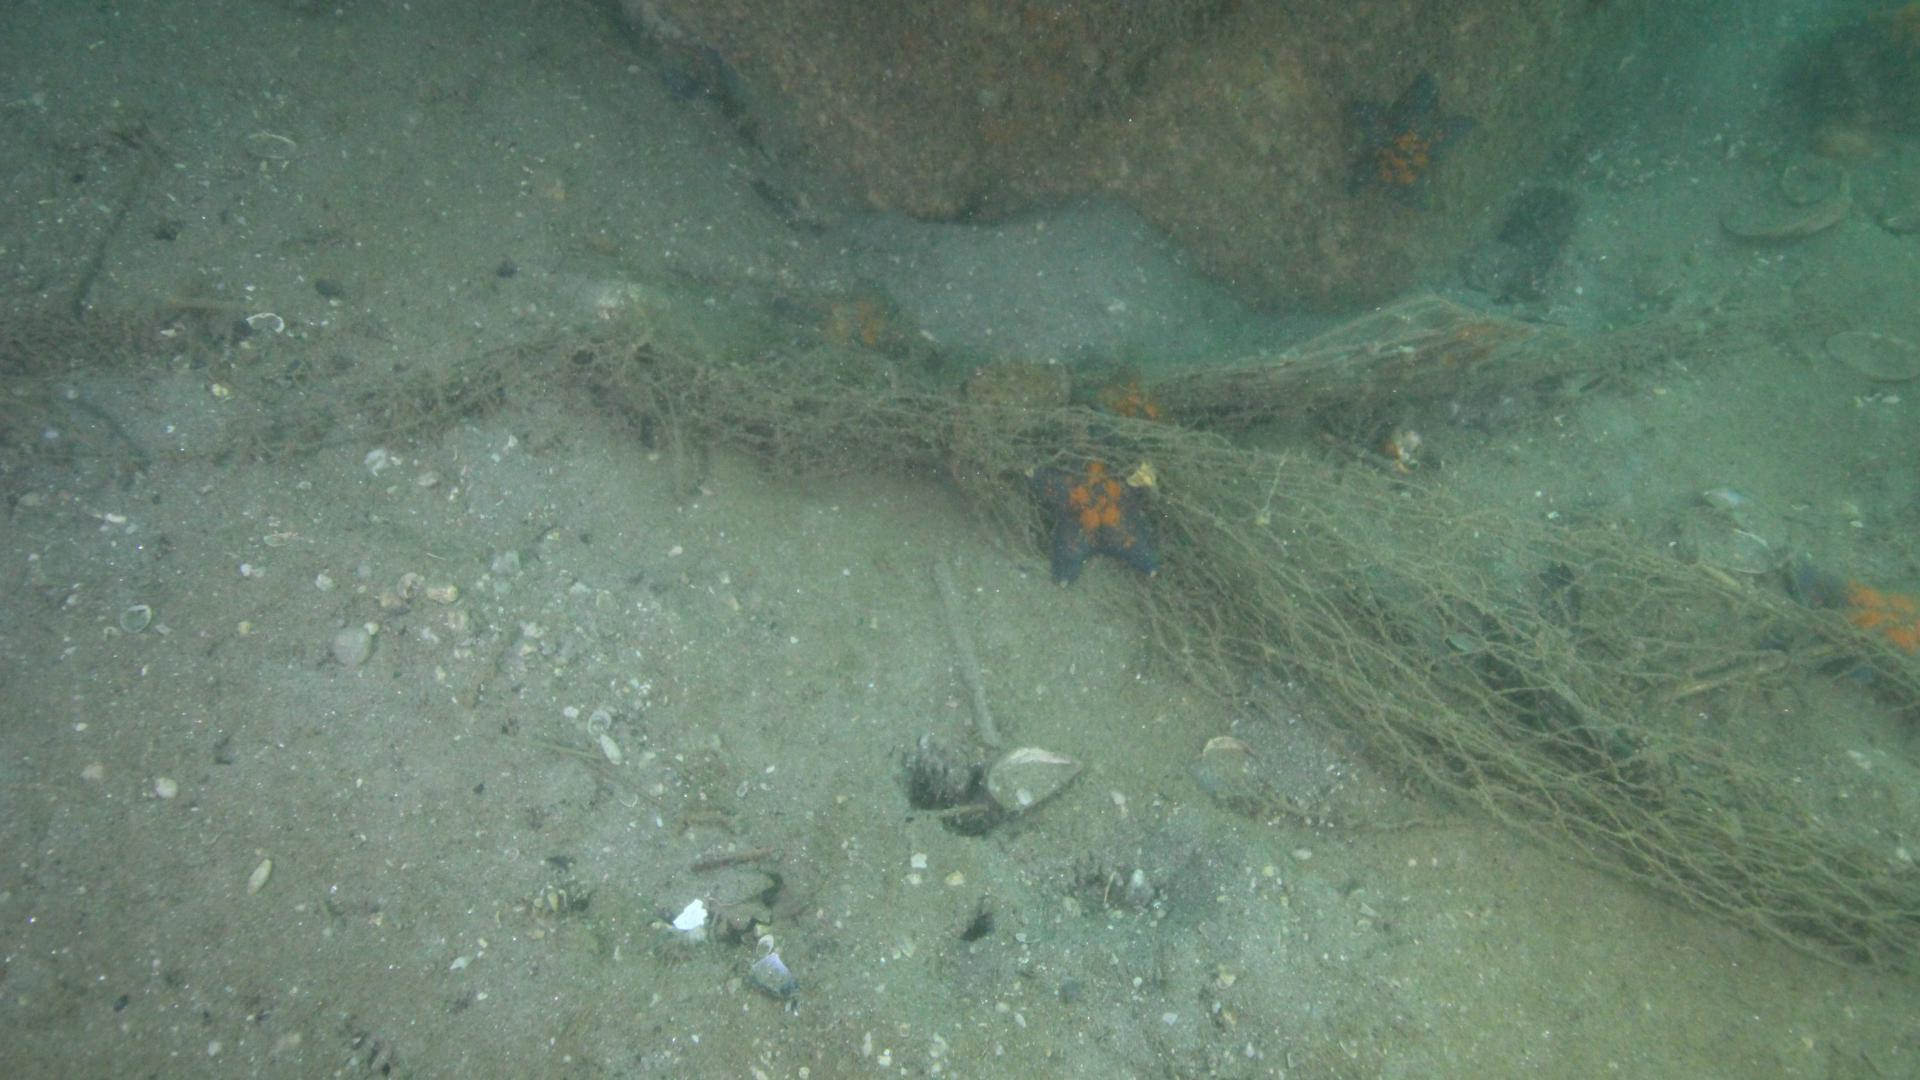fish net: (1150, 444, 1920, 986)
